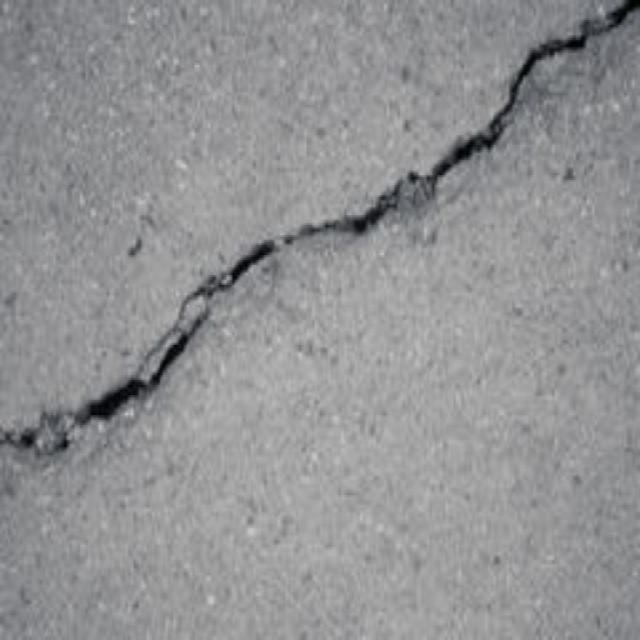crack: (14, 253, 268, 459), (489, 0, 637, 119), (195, 239, 281, 303)
